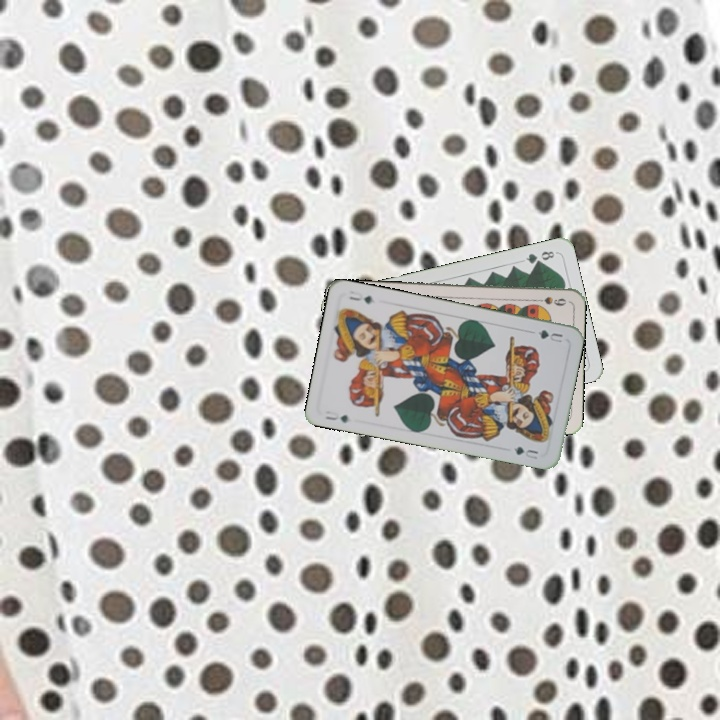G8: (522, 247, 557, 267)
GU: (532, 326, 565, 345), (321, 411, 351, 426)
S9: (529, 293, 569, 308)
